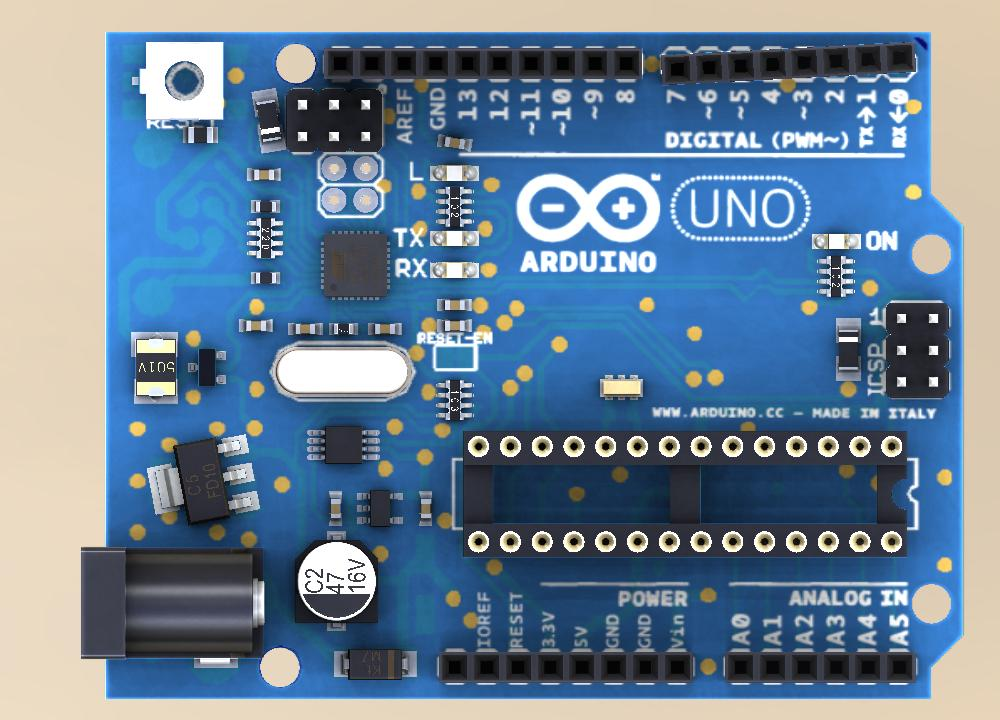16MHz Crystal: (596, 372, 645, 403)
47uF CAP: (292, 530, 383, 632)
ATMega16u2: (318, 228, 394, 303)
CD1206: (249, 89, 284, 155), (833, 317, 863, 383)
Capa: (324, 489, 346, 530), (436, 132, 476, 154), (244, 166, 284, 184), (366, 319, 403, 338), (286, 320, 324, 337), (417, 489, 434, 527), (237, 318, 276, 334), (436, 298, 473, 313), (436, 319, 472, 334)
Crystal: (269, 339, 418, 404)
Fuse: (130, 330, 180, 407)
LED: (812, 232, 862, 251), (429, 261, 481, 279), (430, 164, 478, 182), (430, 230, 479, 246)
LMV358: (356, 487, 406, 532)
M7 diode: (330, 646, 420, 683)
PIN Header: (883, 301, 950, 400), (287, 88, 384, 155)
Ports: (322, 43, 644, 84), (661, 40, 920, 86), (434, 648, 697, 688), (720, 647, 920, 688)
Power: (77, 546, 265, 674)
Regulator: (122, 421, 270, 547)
Resistor: (182, 124, 218, 147), (249, 269, 282, 287), (327, 319, 358, 338), (248, 198, 280, 214)
Resistor pack: (813, 252, 858, 300), (433, 182, 476, 228), (244, 217, 285, 261), (436, 378, 476, 422)
SSOT3: (186, 346, 229, 388)
lp2985: (304, 422, 381, 467)
